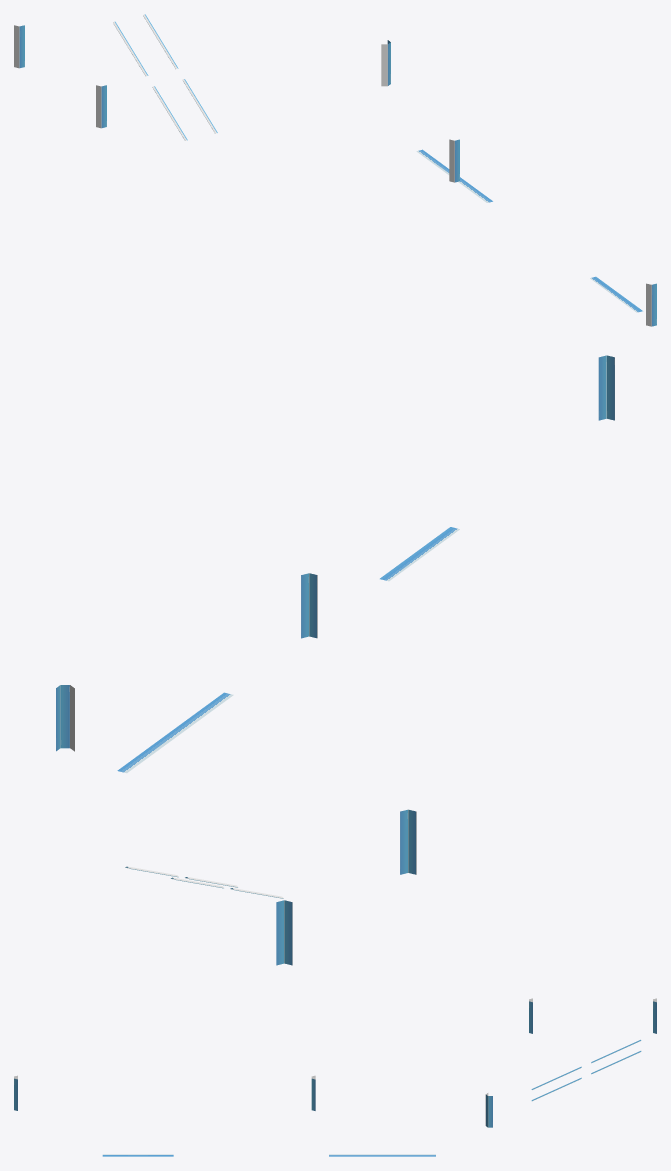
File: S03_AFN_04.OBJ
3 renders of one model, top to bottom at view 1: azimuth 30°, elevation 25°; view 2: azimuth 150°, elevation 25°; view 3: azimuth 270°, elevation 25°, orthographic. The views are drawn at different scales.
Visible parts, largest first — view 1: s03_afn_04_0; view 2: s03_afn_04_0; view 3: s03_afn_04_0.
Part boxes in pixels (x1,y1,x2,y2): s03_afn_04_0: (14,14,656,326); s03_afn_04_0: (56,355,614,965); s03_afn_04_0: (14,998,656,1156).
Bounding box in the file's own units: 972 × 285 × 2699.
Materials: 1 (1 with a texture image).
